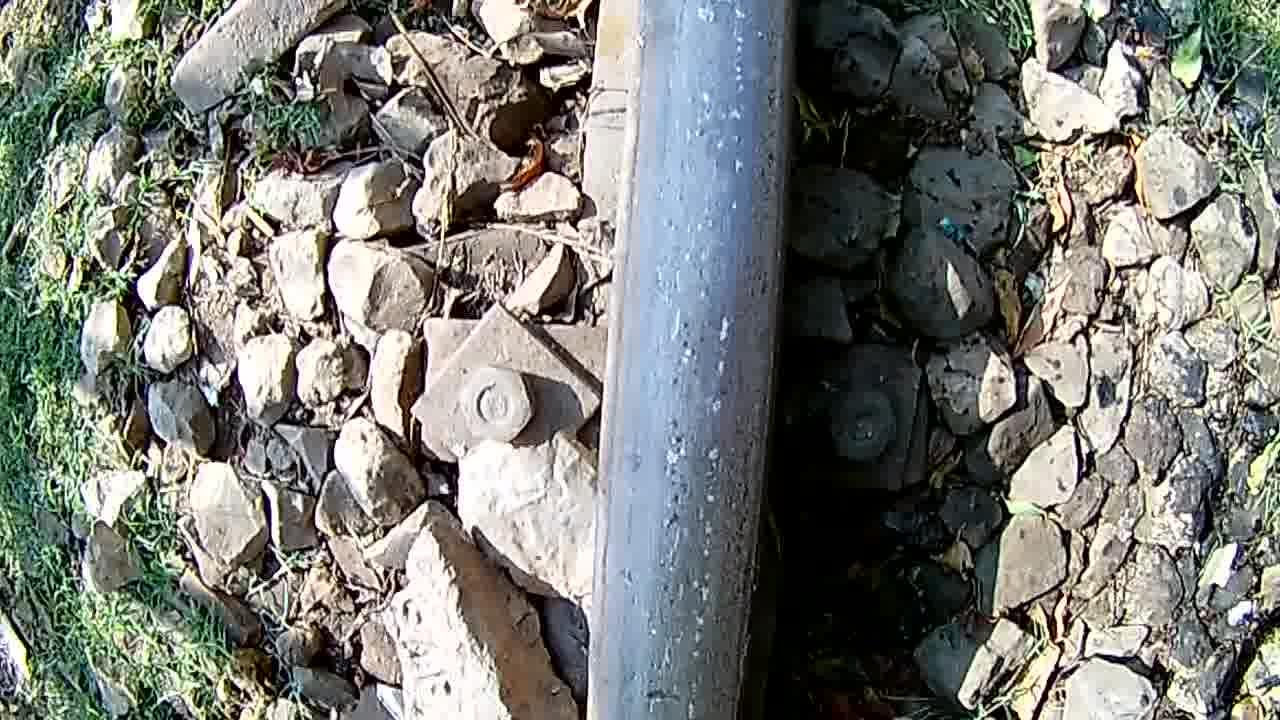clip_missing: (581, 1, 804, 720)
